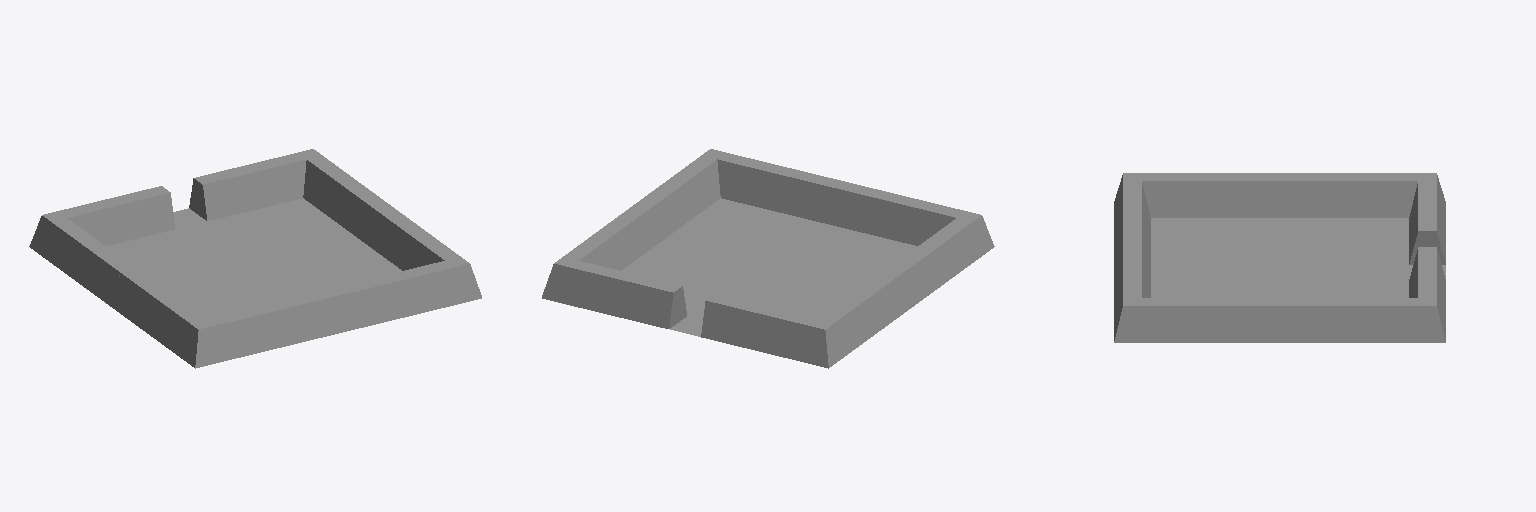
The model's file is sala_1.obj.
3 renders of one model, left to right at view 1: azimuth 30°, elevation 25°; view 2: azimuth 150°, elevation 25°; view 3: azimuth 270°, elevation 25°, orthographic.
Visible parts, largest first — view 1: Ground_Plane, Wall.002_Cube.014, Wall.005_Cube.002, Wall.007_Cube.017, Wall.001_Cube.012, Wall.003_Cube.010, Wall.000_Cube.011, Wall.006_Cube.016, Wall.004_Cube.015; view 2: Ground_Plane, Wall.007_Cube.017, Wall.000_Cube.011, Wall.005_Cube.002, Wall.002_Cube.014, Wall.003_Cube.010, Wall.001_Cube.012, Wall.004_Cube.015, Wall.006_Cube.016; view 3: Ground_Plane, Wall.004_Cube.015, Wall.006_Cube.016, Wall.003_Cube.010, Wall.001_Cube.012, Wall.000_Cube.011, Wall.002_Cube.014, Wall.005_Cube.002, Wall.007_Cube.017.
Part boxes in pixels (x1,y1,x2,y2): Ground_Plane: (106,198,401,318); Wall.002_Cube.014: (195,290,338,368); Wall.005_Cube.002: (326,261,481,332); Wall.007_Cube.017: (189,149,312,221); Wall.001_Cube.012: (29,215,135,306); Wall.003_Cube.010: (112,269,204,367); Wall.000_Cube.011: (44,186,174,245); Wall.006_Cube.016: (303,149,390,244); Wall.004_Cube.015: (368,206,468,270); Ground_Plane: (622,198,917,336); Wall.007_Cube.017: (542,261,686,328); Wall.000_Cube.011: (701,294,828,368); Wall.005_Cube.002: (711,149,845,224); Wall.002_Cube.014: (833,182,979,245); Wall.003_Cube.010: (888,215,994,306); Wall.001_Cube.012: (819,269,911,367); Wall.004_Cube.015: (633,149,720,244); Wall.006_Cube.016: (555,206,655,270); Ground_Plane: (1151,218,1445,297); Wall.004_Cube.015: (1114,298,1279,342); Wall.006_Cube.016: (1280,298,1445,342); Wall.003_Cube.010: (1124,173,1279,217); Wall.001_Cube.012: (1280,173,1435,217); Wall.000_Cube.011: (1409,173,1445,264); Wall.002_Cube.014: (1114,173,1150,270); Wall.005_Cube.002: (1114,239,1150,340); Wall.007_Cube.017: (1409,247,1445,340).
Bounding box in the file's own units: 18 × 2 × 18.